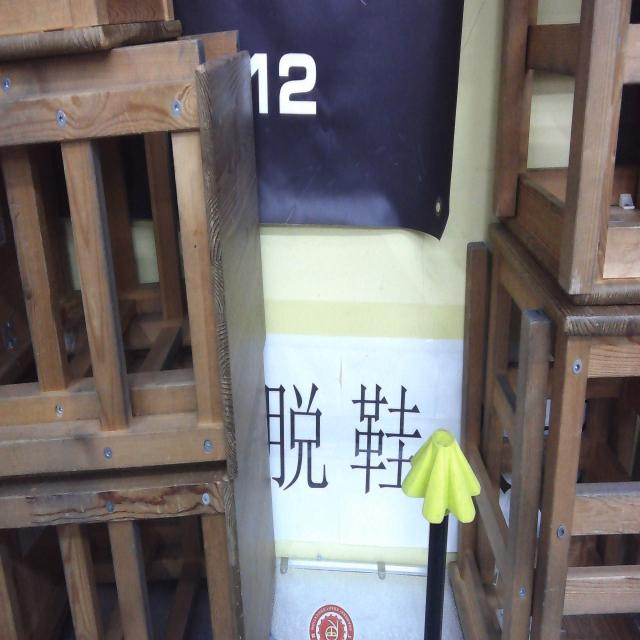Yellow-Stake-Head: (401, 429, 481, 525)
